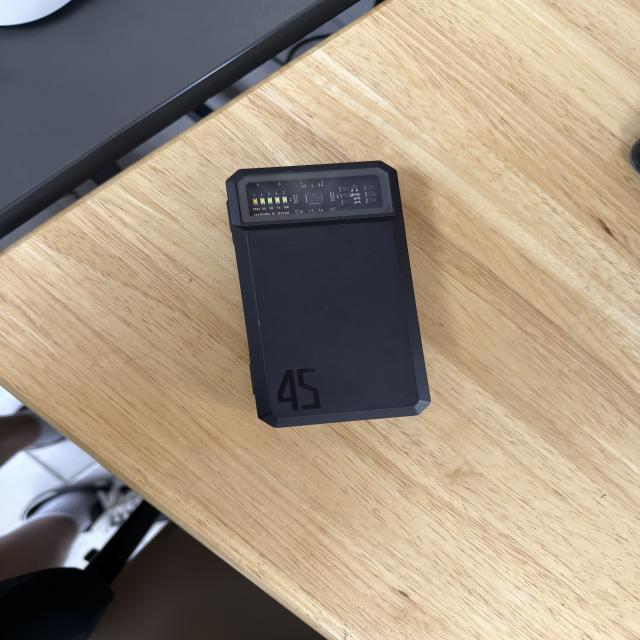power bank: (218, 156, 438, 433)
